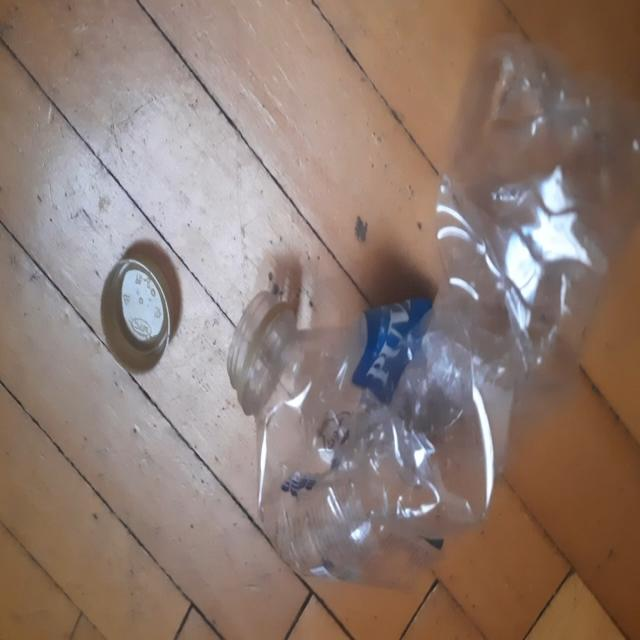Plastic: (227, 33, 638, 581)
